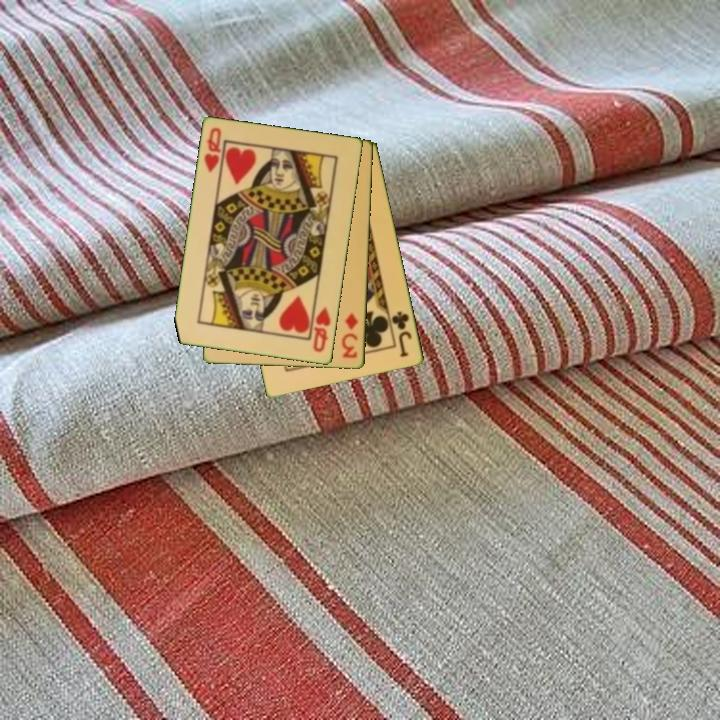3d: (339, 310, 361, 361)
Jc: (388, 308, 415, 360)
Qh: (310, 304, 334, 355), (201, 124, 224, 175)
